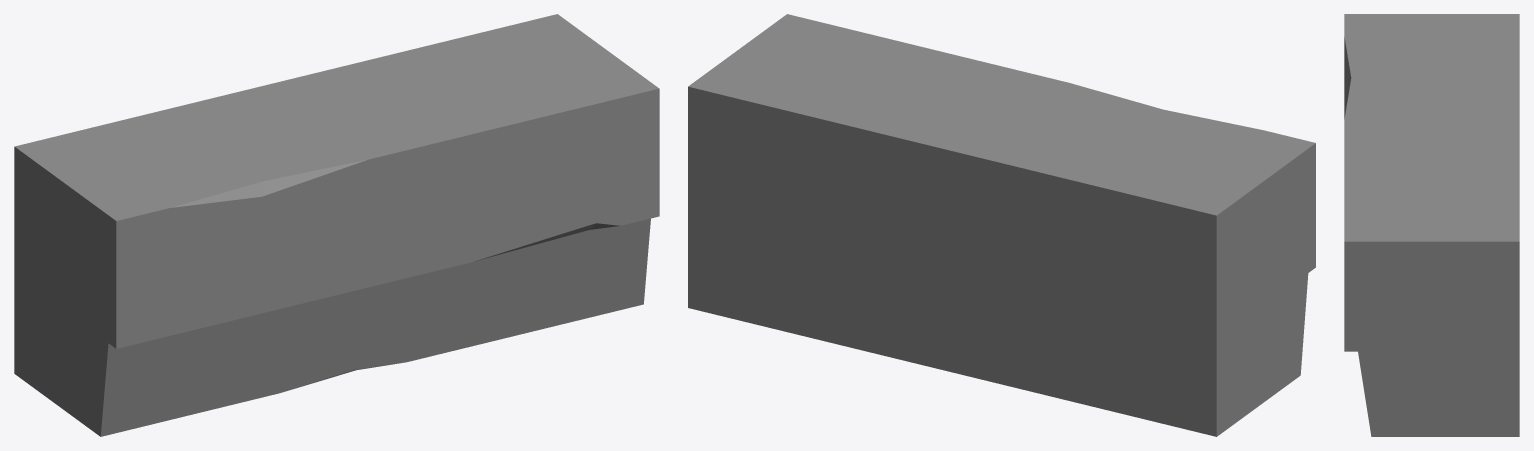
The model's file is SW_ENV_ConcreteLedge_1m.fbx.
The picture shows the model from 3 angles, left to right: view 1: azimuth 30°, elevation 25°; view 2: azimuth 150°, elevation 25°; view 3: azimuth 270°, elevation 25°; orthographic projection. The views are drawn at different scales.
Visible parts, largest first — view 1: SW_ENV_ConcreteLedge_1m; view 2: SW_ENV_ConcreteLedge_1m; view 3: SW_ENV_ConcreteLedge_1m.
Boxes of the visible parts, box(x1,y1,x2,y2) form: SW_ENV_ConcreteLedge_1m: box(14, 14, 659, 436); SW_ENV_ConcreteLedge_1m: box(688, 14, 1315, 436); SW_ENV_ConcreteLedge_1m: box(1344, 14, 1519, 436).
Size of the model in its own units: 100 by 40 by 32.5.
